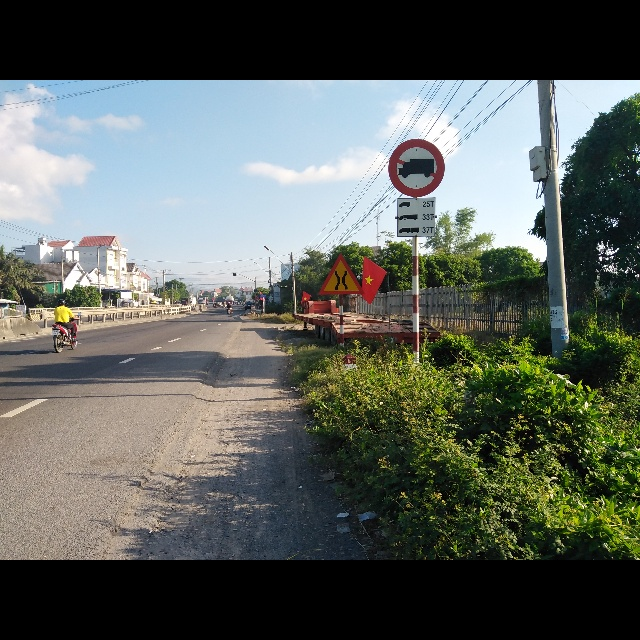Cấm xe tải: (386, 136, 447, 195)
Cầu hẹp: (318, 254, 362, 295)
